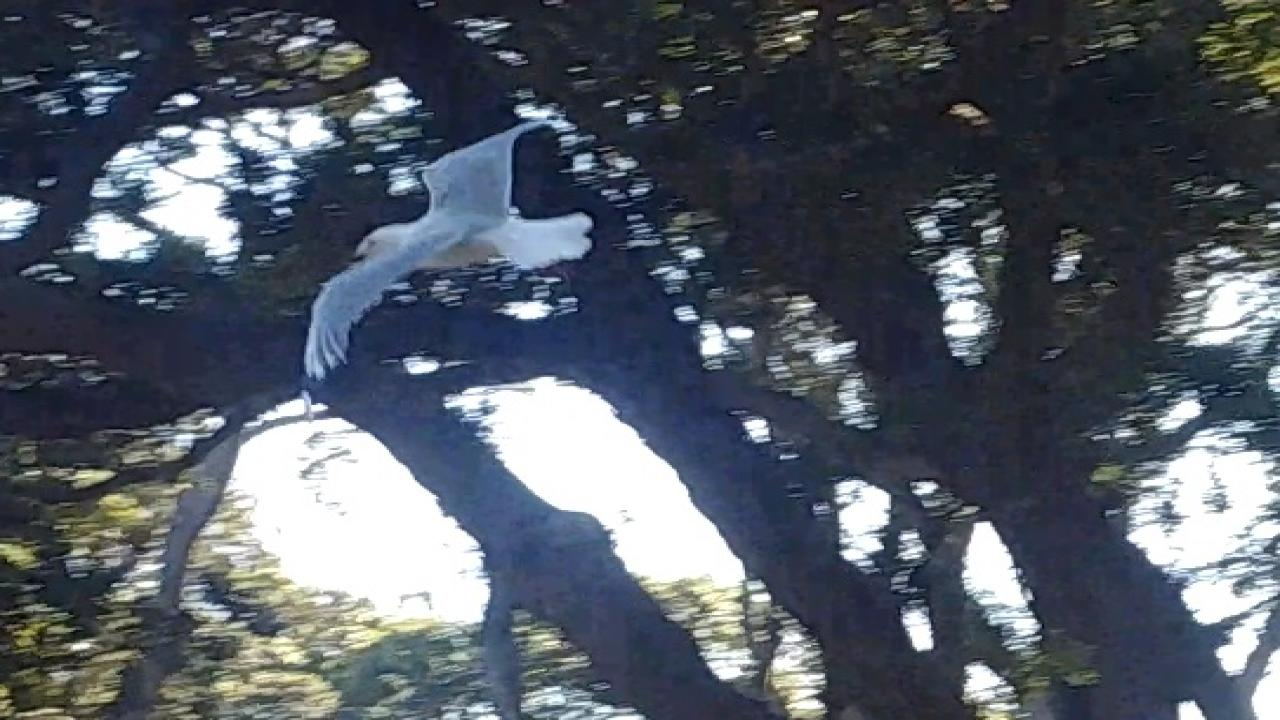Bird: (291, 108, 609, 386)
